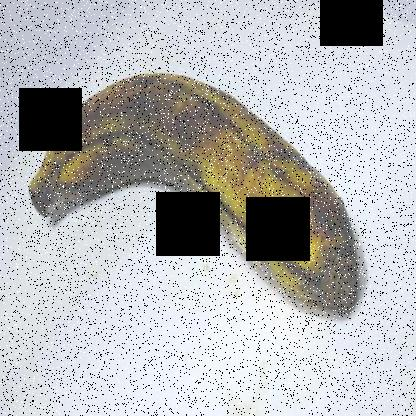overripe: (20, 62, 370, 327)
rotten: (26, 144, 106, 236)
